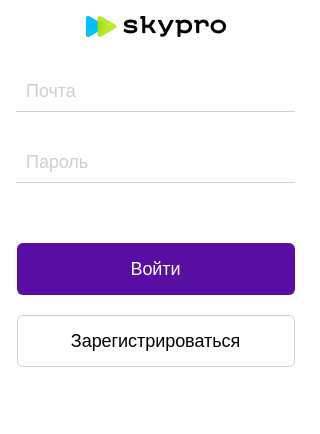
Test case: Signin component › should display error when email field is empty on submit
The width and height of the screenshot is (320, 434).
What coordinates should you click on to do the following:
click the button "Войти"
I would click on:
 (156, 268)
Its box is [16, 242, 294, 294].
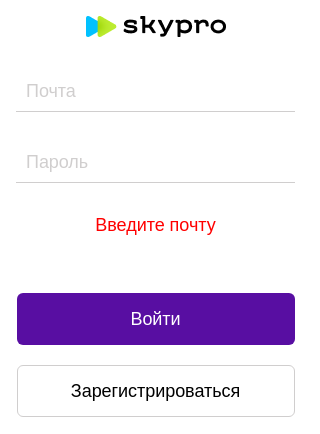
Now the text "Введите почту" is shown, box [95, 212, 216, 236]
